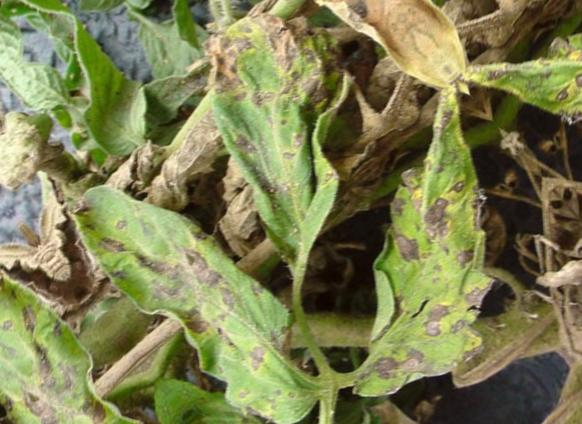Tomato leaf late blight: (234, 78, 582, 424), (52, 138, 350, 424), (144, 0, 421, 277)
